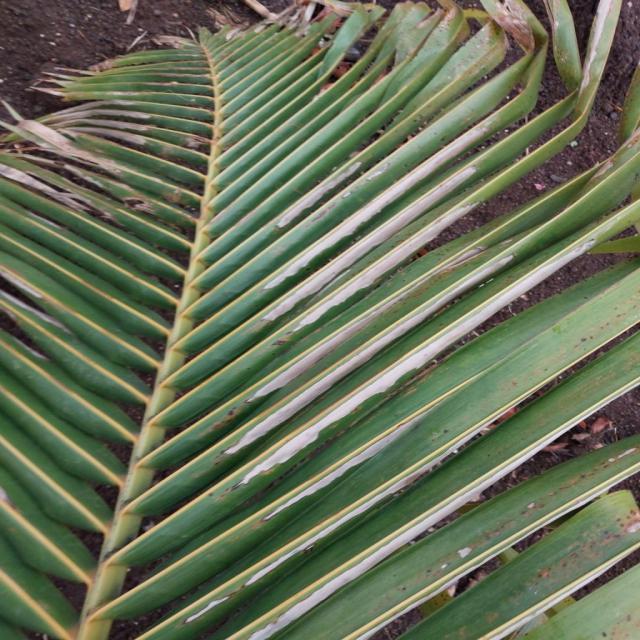gray leaf spot: (246, 119, 592, 631)
